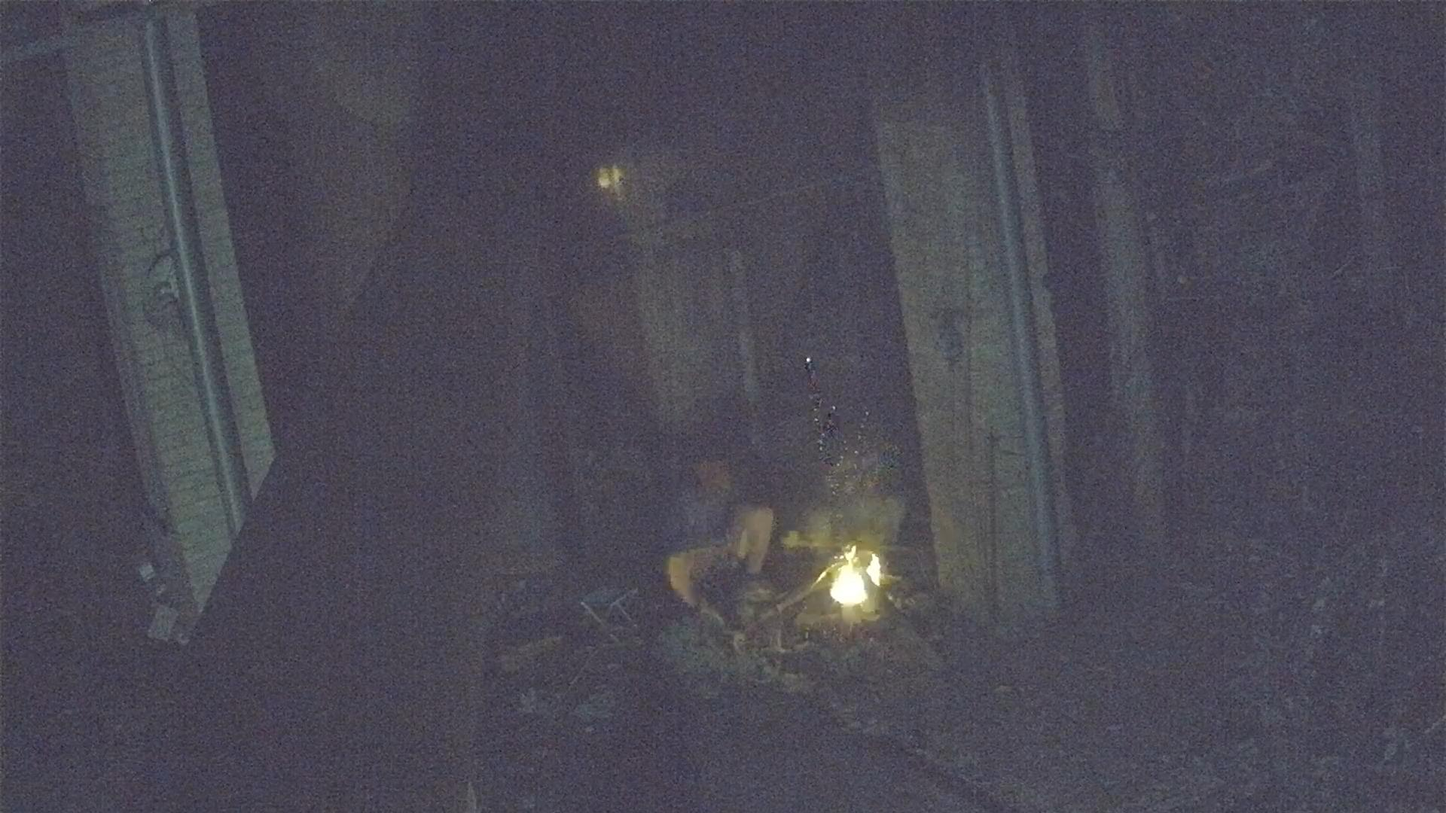fire: (830, 547, 882, 607)
